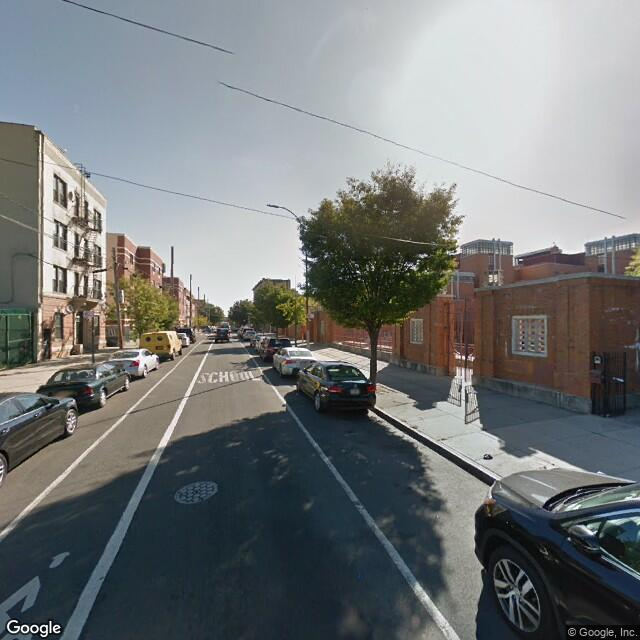litter: (484, 448, 493, 463)
